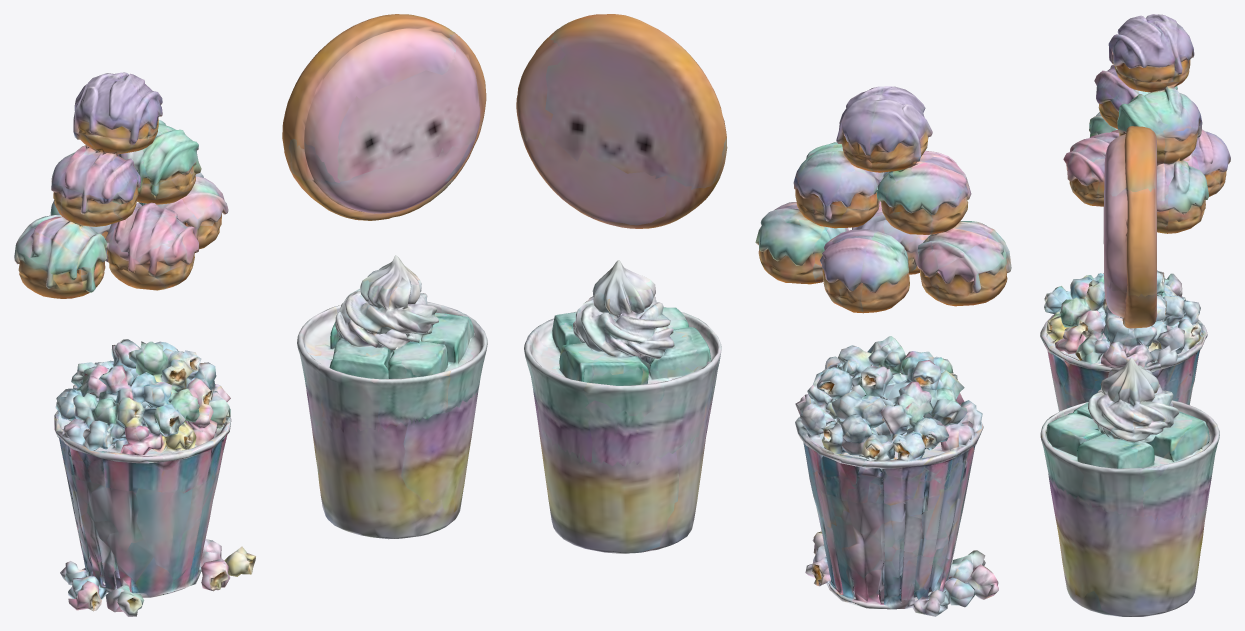
3 renders of one model, left to right at view 1: azimuth 30°, elevation 25°; view 2: azimuth 150°, elevation 25°; view 3: azimuth 270°, elevation 25°, orthographic. The views are drawn at different scales.
Parts seen in each view (by area): view 1: Mesh 8, Mesh 4, Mesh 7, Mesh 1; view 2: Mesh 8, Mesh 4, Mesh 1, Mesh 7; view 3: Mesh 8, Mesh 1, Mesh 4, Mesh 7.
Boxes of the visible parts, x1=… form: Mesh 8: x1=297, y1=255, x2=487, y2=539; Mesh 4: x1=54, y1=339, x2=255, y2=616; Mesh 7: x1=282, y1=14, x2=486, y2=220; Mesh 1: x1=14, y1=72, x2=228, y2=298; Mesh 8: x1=524, y1=260, x2=721, y2=553; Mesh 4: x1=795, y1=336, x2=998, y2=616; Mesh 1: x1=755, y1=86, x2=1011, y2=313; Mesh 7: x1=516, y1=14, x2=727, y2=228; Mesh 8: x1=1040, y1=357, x2=1219, y2=616; Mesh 1: x1=1063, y1=14, x2=1230, y2=233; Mesh 4: x1=1040, y1=270, x2=1207, y2=411; Mesh 7: x1=1103, y1=126, x2=1156, y2=328.
Size of the model in its own units: 1.86 by 1.9 by 0.715.
4 materials, 4 textured.
